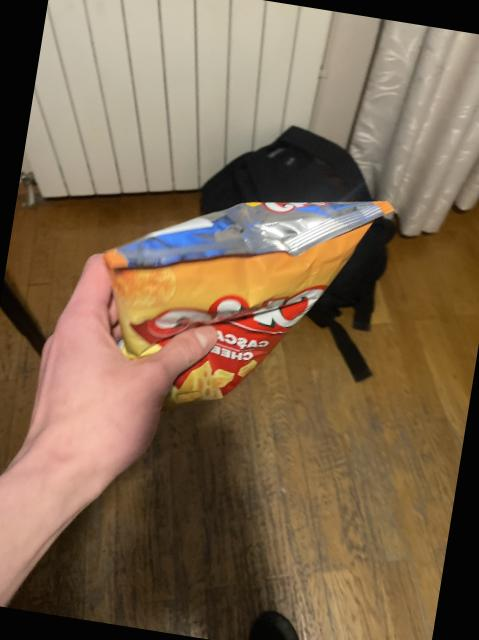Chio Cascaval 125g: (84, 163, 394, 432)
